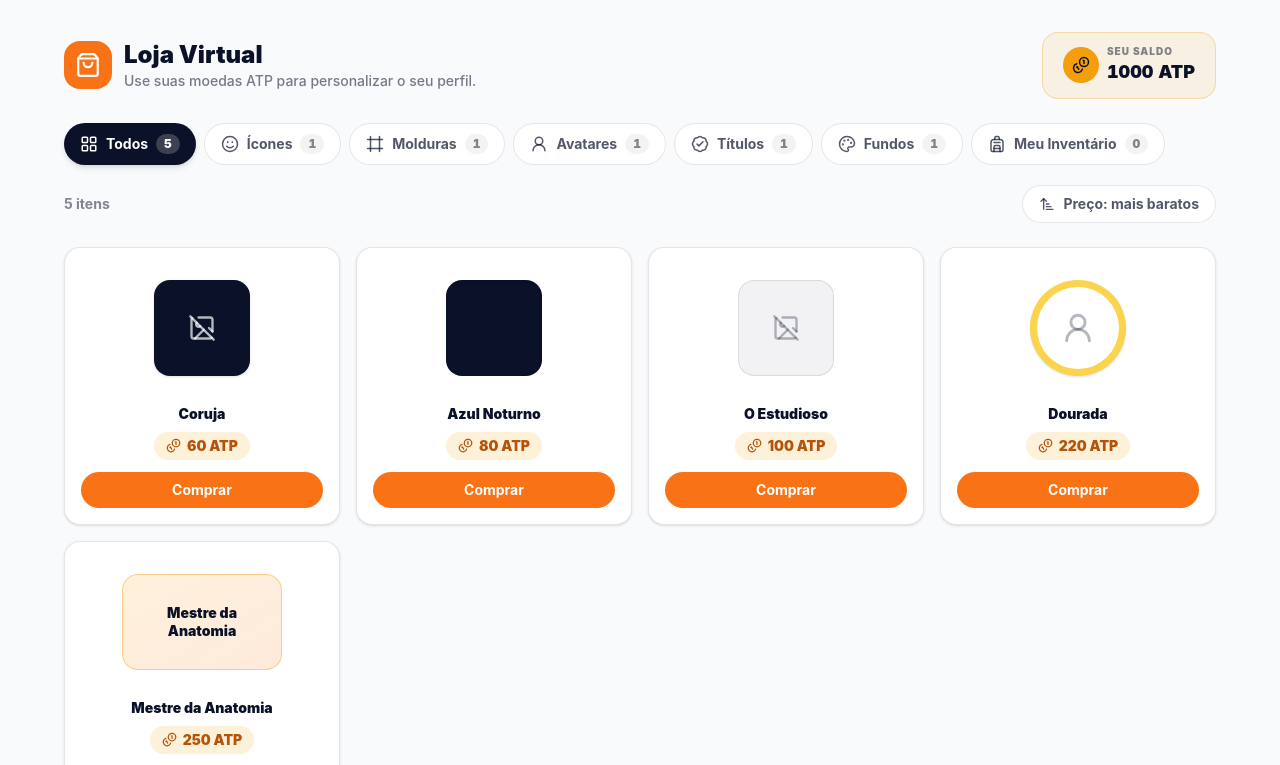
Test case: LojaPage › informa falha não tipada ao comprar um item
This screenshot has width=1280, height=765.
Click the button "Comprar" below "60" at (202, 490), box [81, 472, 323, 508]
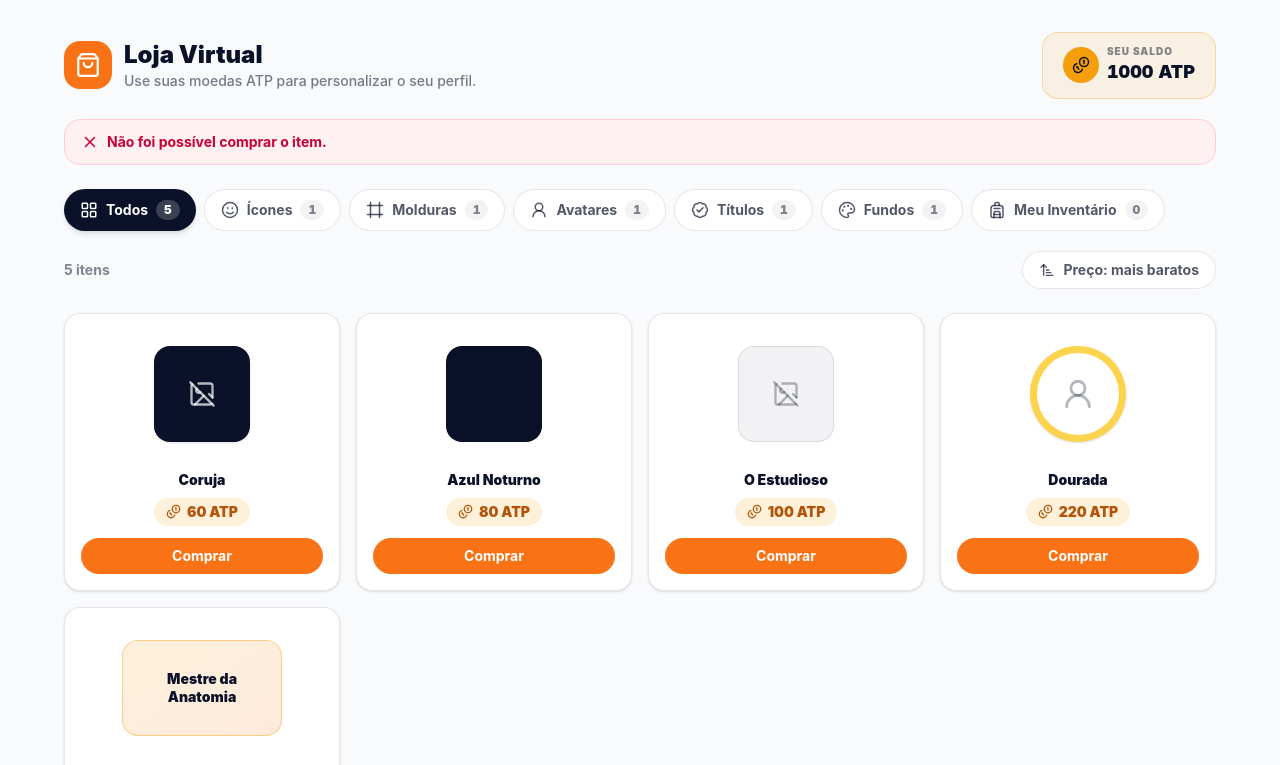
Check: the text "Não foi possível comprar o item." is shown, box [64, 118, 1216, 164]
